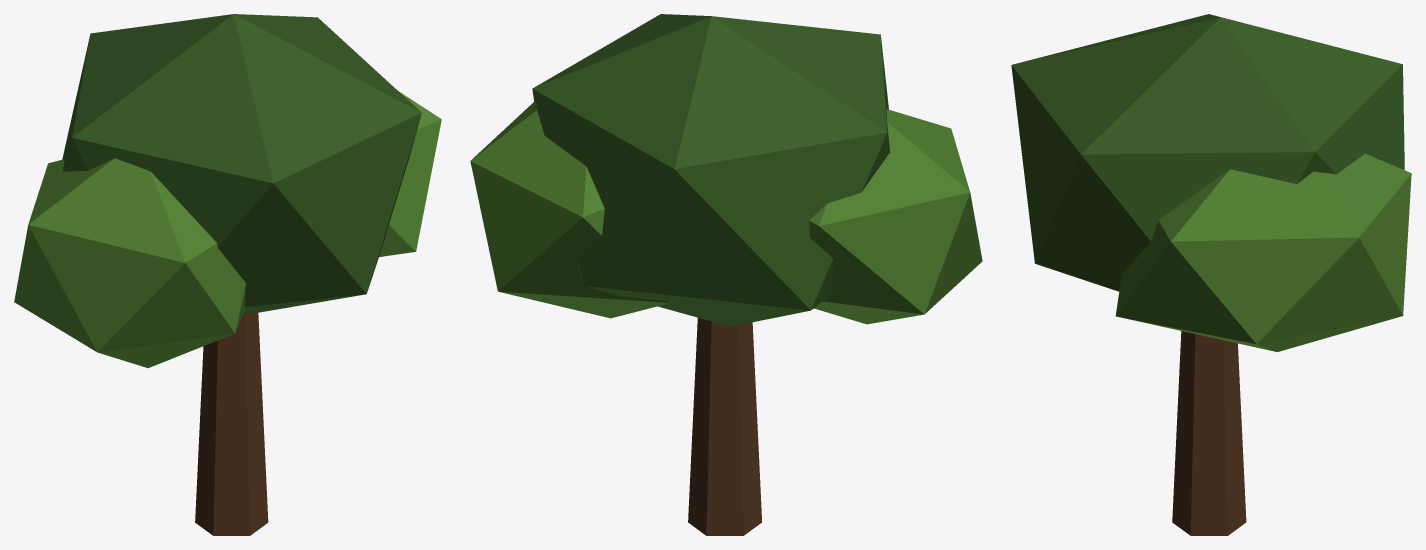
The model's file is SM_TreeOak.fbx.
3 views of the same model, side by side, from view 1: azimuth 30°, elevation 25°; view 2: azimuth 150°, elevation 25°; view 3: azimuth 270°, elevation 25° (orthographic).
Visible parts, largest first — view 1: SM_TreeOak; view 2: SM_TreeOak; view 3: SM_TreeOak.
Part boxes in pixels (<box>): SM_TreeOak: <box>14,14,441,535</box>; SM_TreeOak: <box>470,14,982,535</box>; SM_TreeOak: <box>1011,14,1411,535</box>.
Size of the model in its own units: 4.3 by 3.45 by 4.84.
